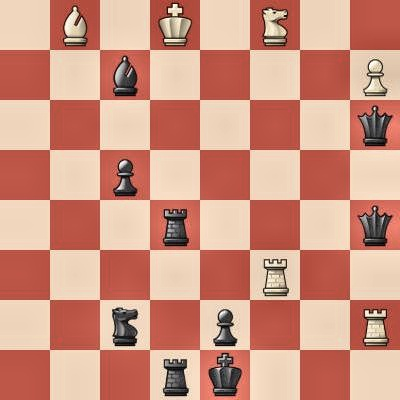black-bishop: (100, 50, 150, 100)
black-king: (200, 350, 250, 400)
black-knight: (100, 300, 150, 350)
black-pawn: (100, 150, 150, 200), (200, 300, 250, 350)
black-queen: (350, 100, 400, 150), (350, 200, 400, 250)
black-rook: (150, 200, 200, 250), (150, 350, 200, 400)
white-bishop: (50, 0, 100, 50)
white-king: (150, 0, 200, 50)
white-knight: (250, 0, 300, 50)
white-pawn: (350, 50, 400, 100)
white-rook: (250, 250, 300, 300), (350, 300, 400, 350)
